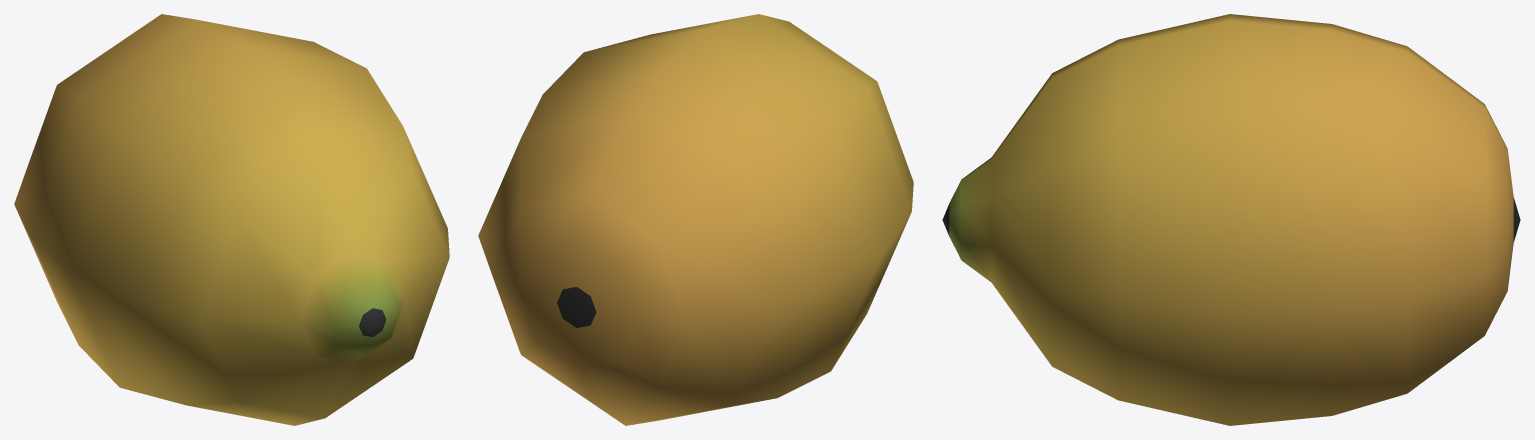
File: consumables-fruits-lemon_v1.glb
The picture shows the model from 3 angles, left to right: view 1: azimuth 30°, elevation 25°; view 2: azimuth 150°, elevation 25°; view 3: azimuth 270°, elevation 25°; orthographic projection. The views are drawn at different scales.
Parts seen in each view (by area): view 1: Lemon.001; view 2: Lemon.001; view 3: Lemon.001.
Boxes of the visible parts, left/top/right/bottom form: Lemon.001: left=14, top=14, right=449, bottom=425; Lemon.001: left=478, top=14, right=913, bottom=425; Lemon.001: left=942, top=14, right=1520, bottom=425.
Size of the model in its own units: 0.0892 by 0.0892 by 0.1176.
